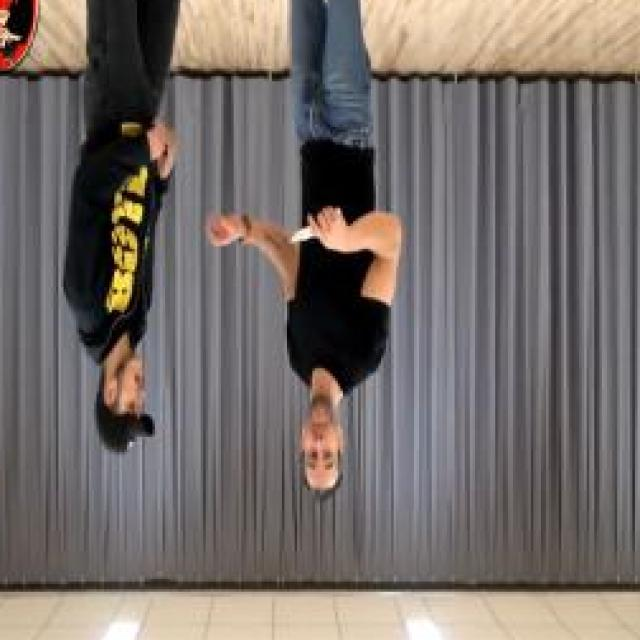knife: (287, 202, 345, 254)
